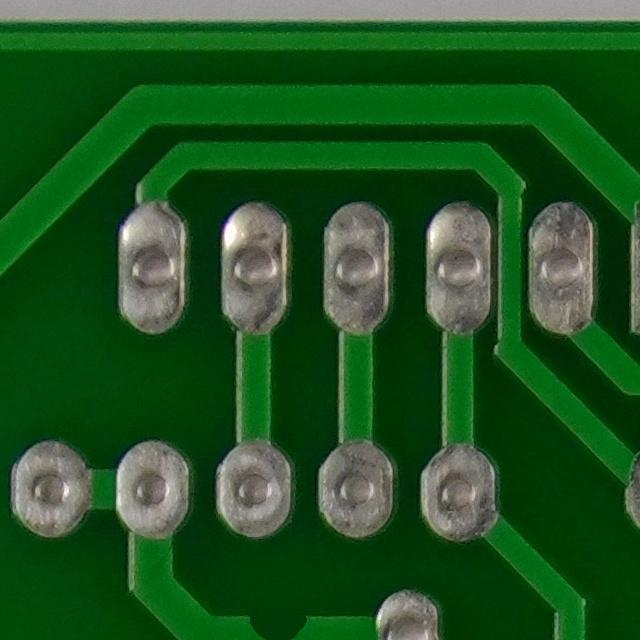mouse_bite: (233, 596, 320, 640)
